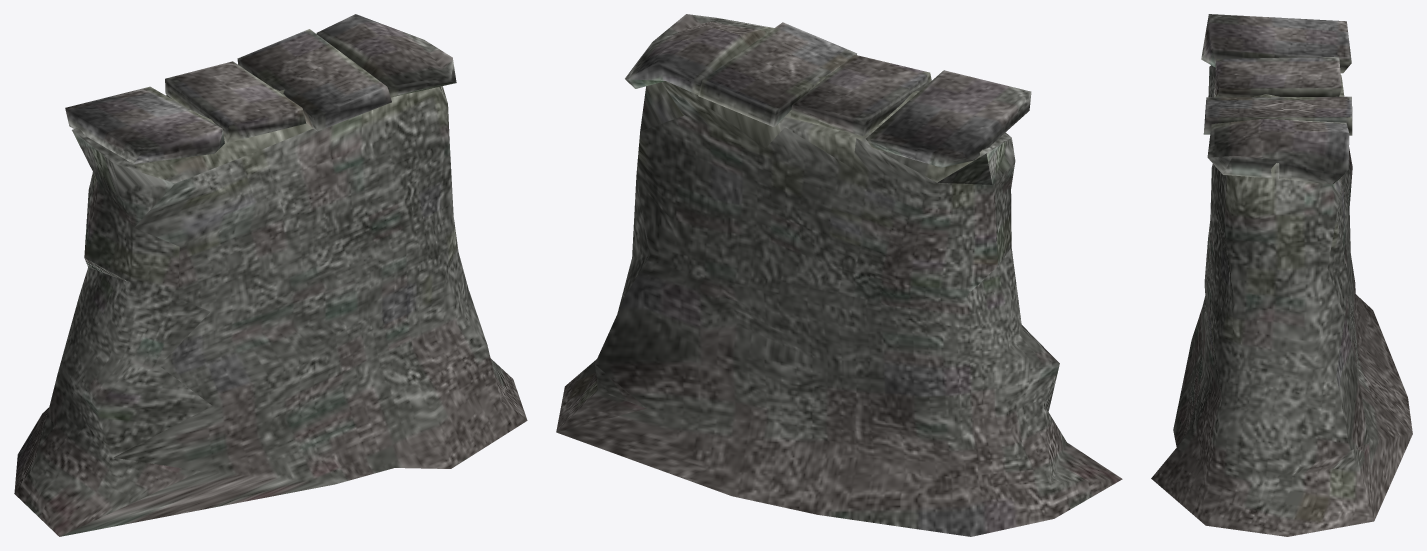
File: mesh_SideSHort.fbx
The picture shows the model from 3 angles, left to right: view 1: azimuth 30°, elevation 25°; view 2: azimuth 150°, elevation 25°; view 3: azimuth 270°, elevation 25°; orthographic projection. The views are drawn at different scales.
Parts seen in each view (by area): view 1: SideSHort; view 2: SideSHort; view 3: SideSHort.
Part boxes in pixels (<box>): SideSHort: <box>14,14,527,536</box>; SideSHort: <box>556,14,1122,536</box>; SideSHort: <box>1151,14,1412,536</box>.
Bounding box in the file's own units: 143 × 103 × 69.62.
Materials: 1 (1 with a texture image).
